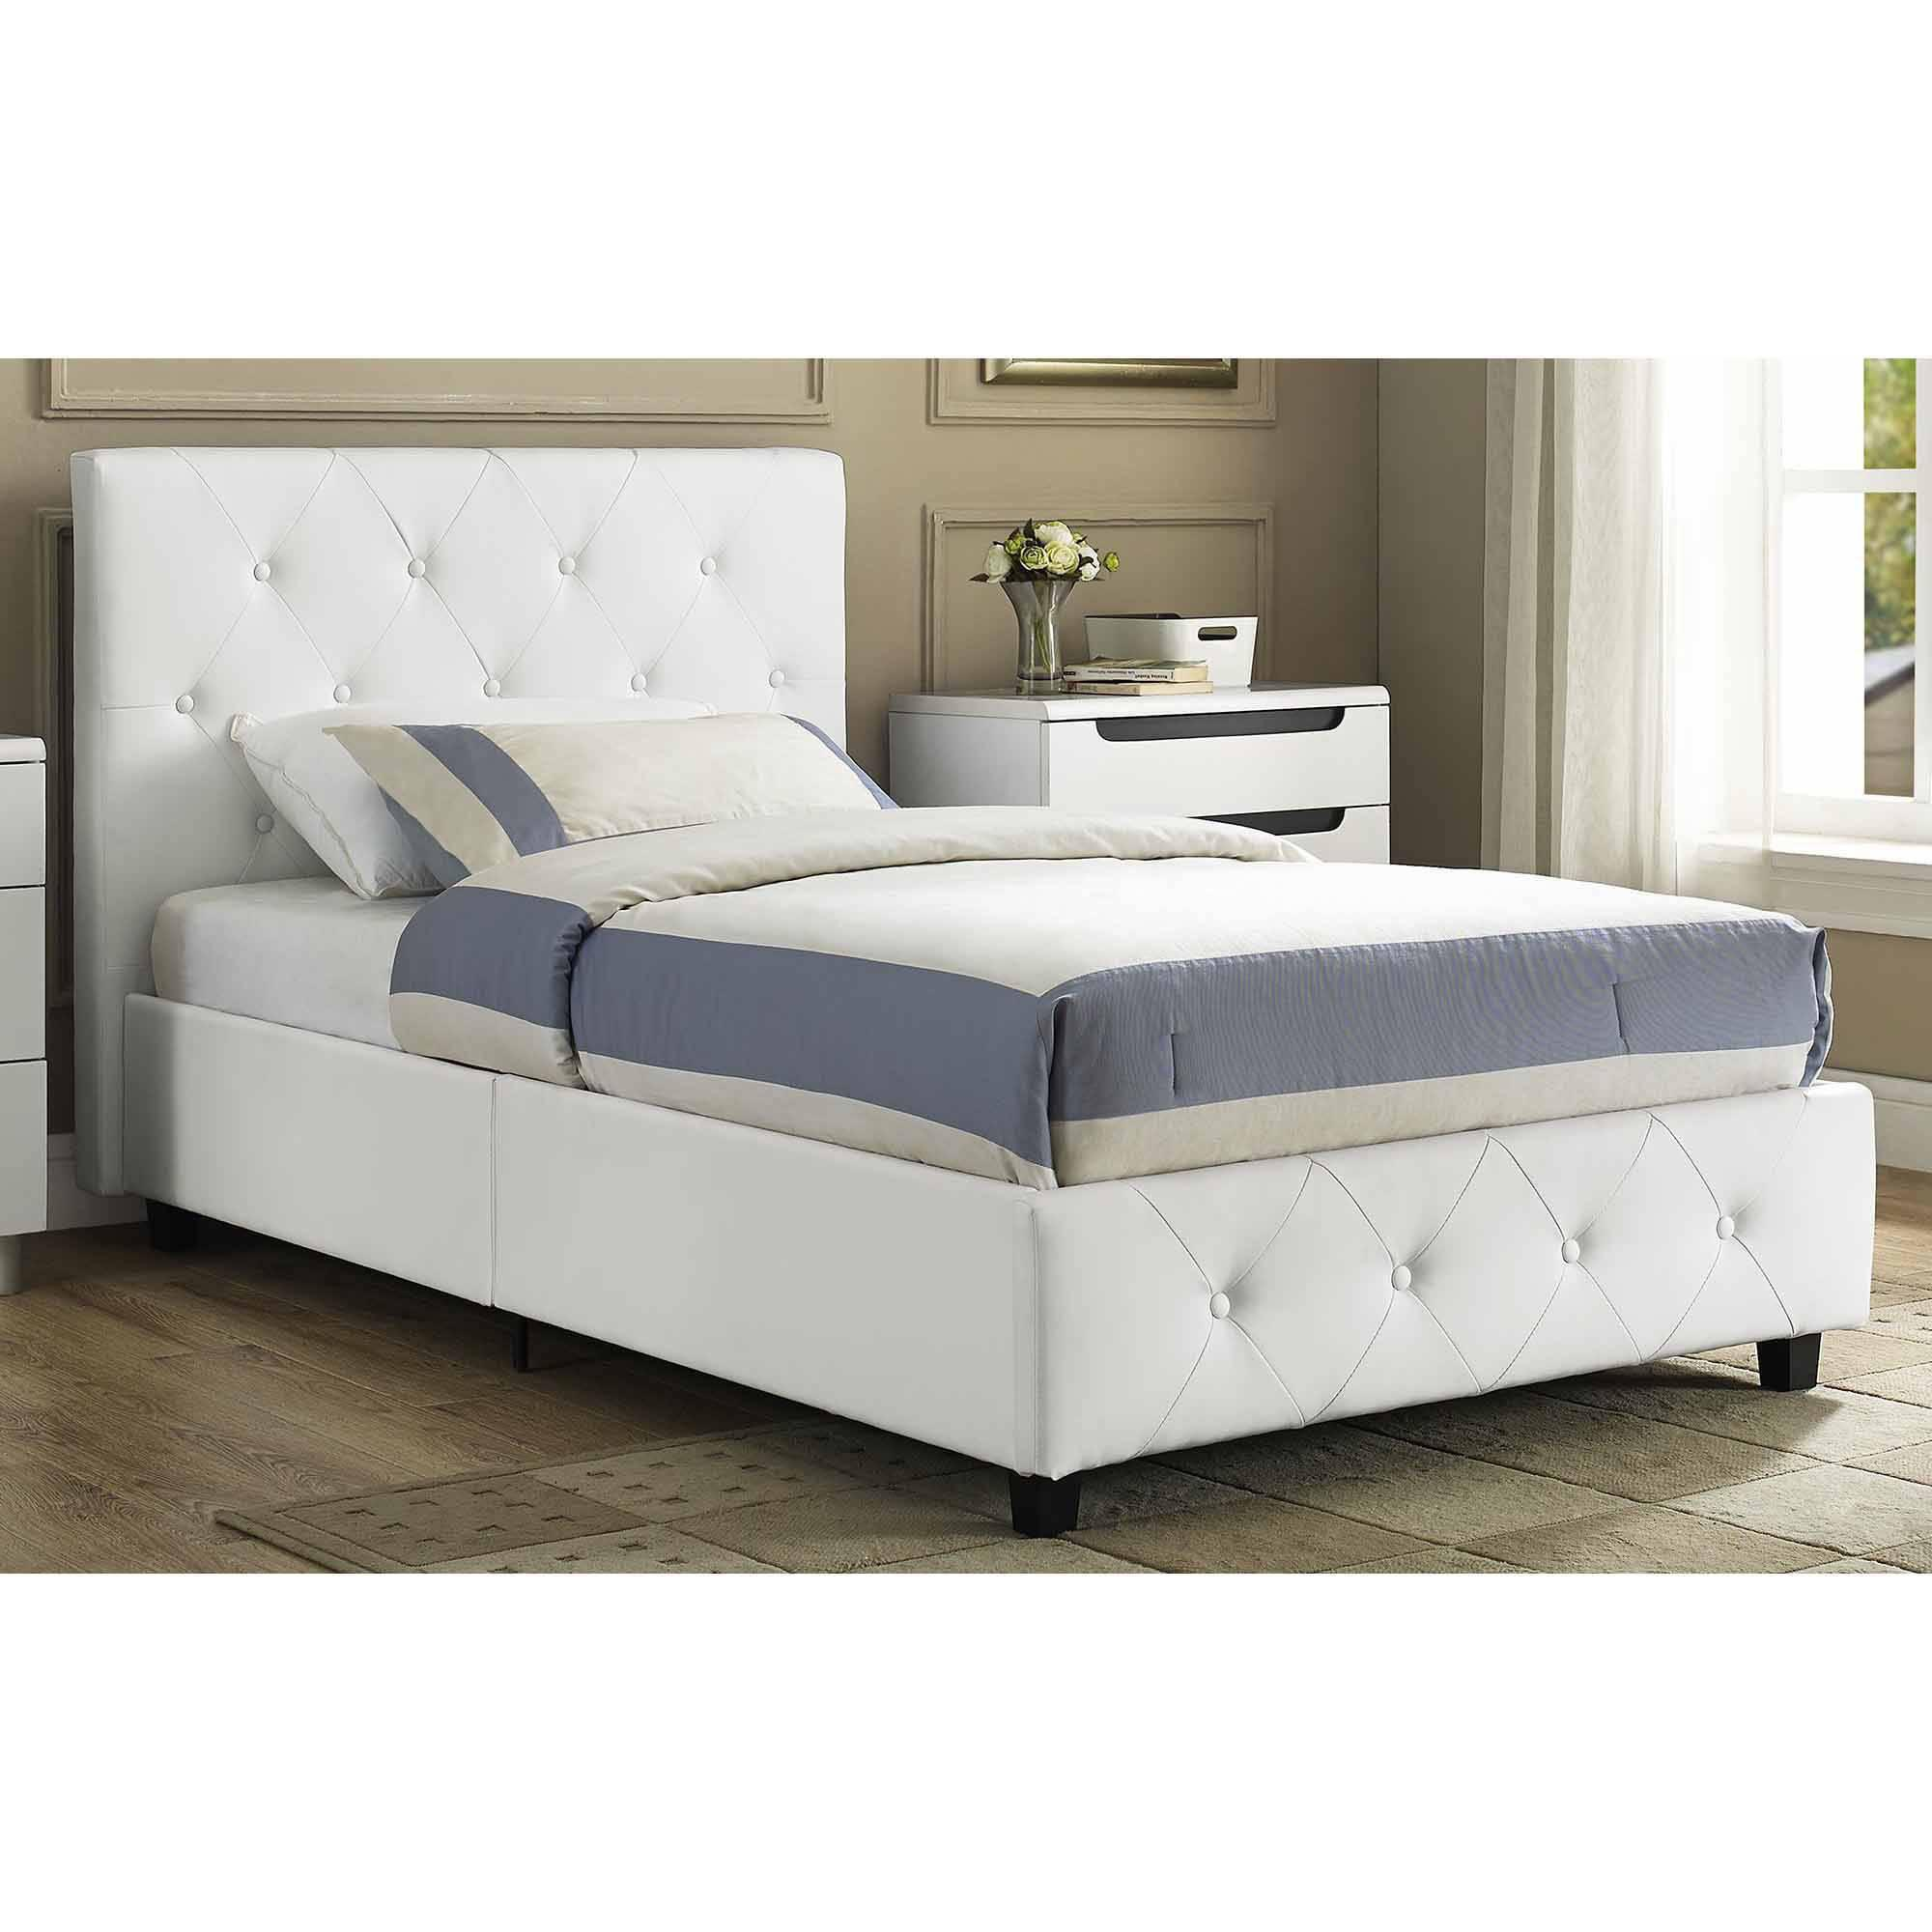bed: (39, 432, 1881, 1550)
